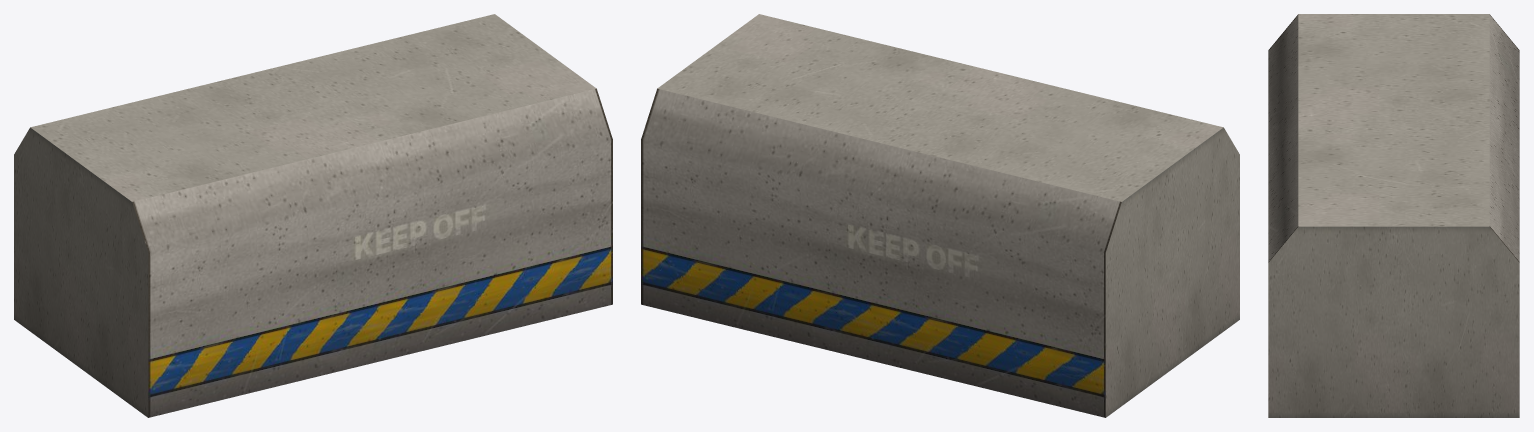
The model's file is env_wall_low.glb.
3 views of the same model, side by side, from view 1: azimuth 30°, elevation 25°; view 2: azimuth 150°, elevation 25°; view 3: azimuth 270°, elevation 25° (orthographic). The views are drawn at different scales.
Parts seen in each view (by area): view 1: env_wall_low_body; view 2: env_wall_low_body; view 3: env_wall_low_body.
Boxes of the visible parts, x1,y1,x2,y2 form: env_wall_low_body: (14, 14, 612, 417); env_wall_low_body: (641, 14, 1239, 417); env_wall_low_body: (1268, 14, 1519, 417).
Bounding box in the file's own units: 1 × 0.42 × 0.5.
1 material, 1 textured.
